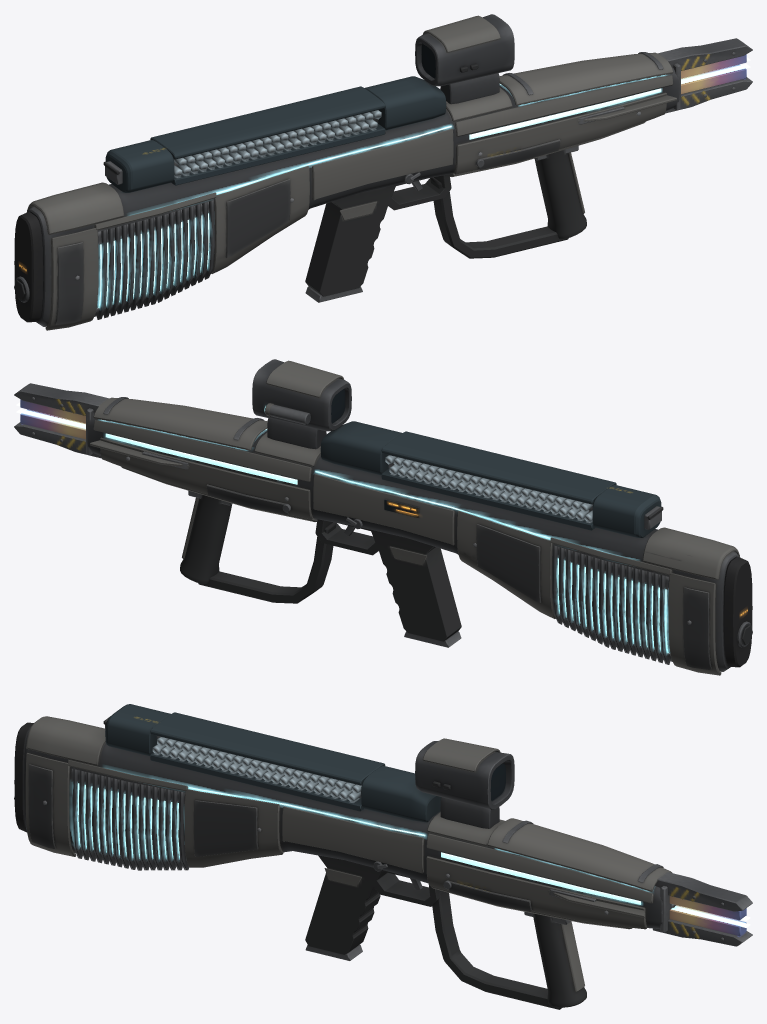
File: rail_carbine.gltf
3 views of the same model, one above another, from view 1: azimuth 30°, elevation 25°; view 2: azimuth 150°, elevation 25°; view 3: azimuth 330°, elevation 25° (orthographic).
Visible parts, largest first — view 1: body, magazine, vent, glow; view 2: body, magazine, vent, glow; view 3: body, magazine, vent, glow.
Part boxes in pixels (box(x1,y1,x2,y2)): body: box(14, 14, 752, 330); magazine: box(103, 76, 446, 192); vent: box(499, 52, 673, 105); glow: box(98, 57, 750, 308); body: box(14, 359, 752, 675); magazine: box(320, 421, 663, 537); vent: box(93, 397, 267, 450); glow: box(16, 402, 668, 653); body: box(14, 716, 752, 1009); magazine: box(103, 704, 440, 822); vent: box(487, 818, 672, 891); glow: box(78, 783, 750, 927).
Size of the model in its own units: 0.8515 by 0.2617 by 0.075.
1 material, 1 textured.
